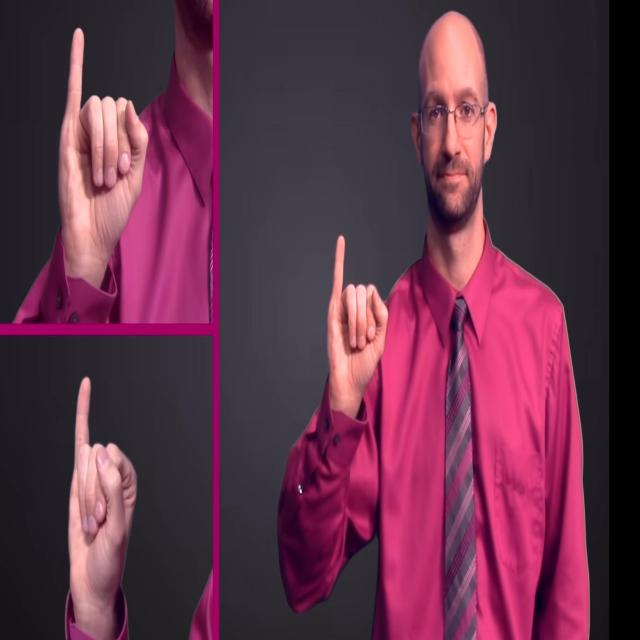I: (54, 15, 150, 265), (66, 371, 139, 617), (322, 222, 391, 400)
